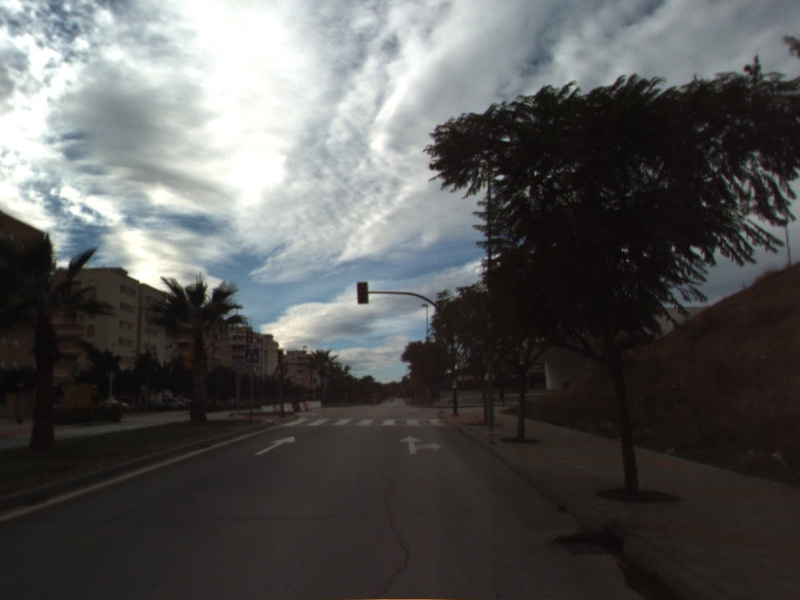STRAIGHT: (253, 434, 297, 457)
STRAIGHT_RIGHT: (397, 433, 444, 456)
